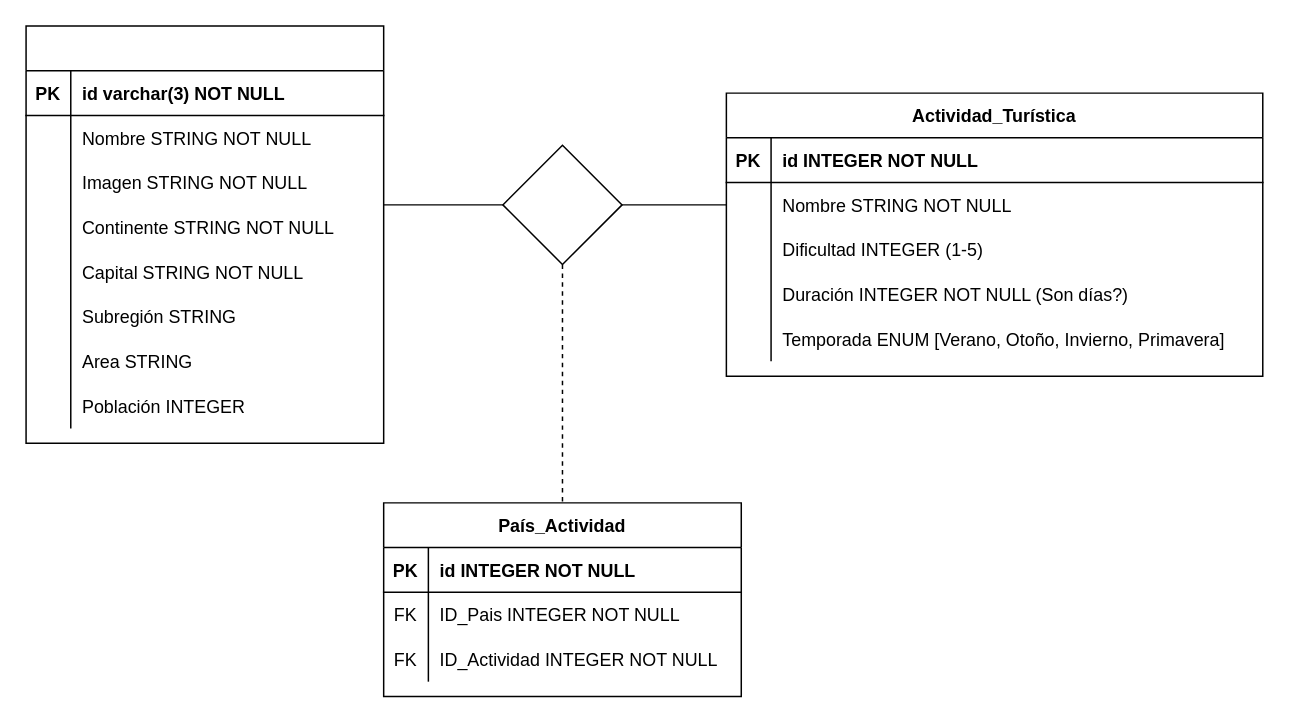
Image size: 1289x723. Some labels were removed from this diagram. The shapes that lost their labels are listed below. From the top down, each one's box as (x1, y1, x2, y2) in pixels, then its label:
(501, 144, 622, 264): N : N
(25, 25, 384, 443): País
